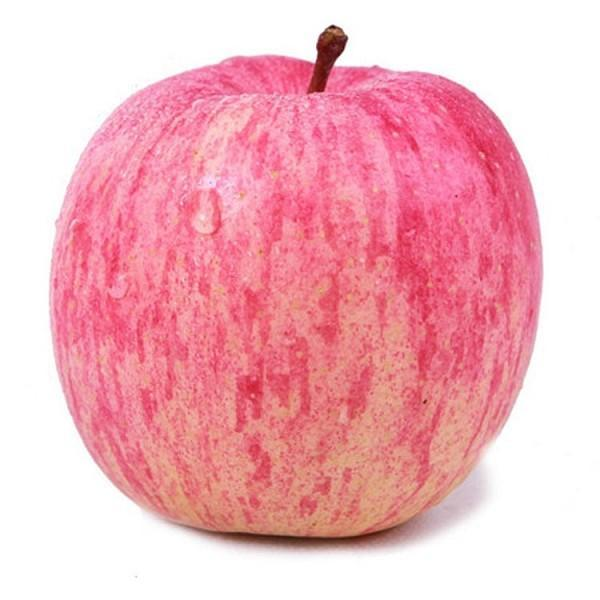apple: (45, 36, 543, 543)
